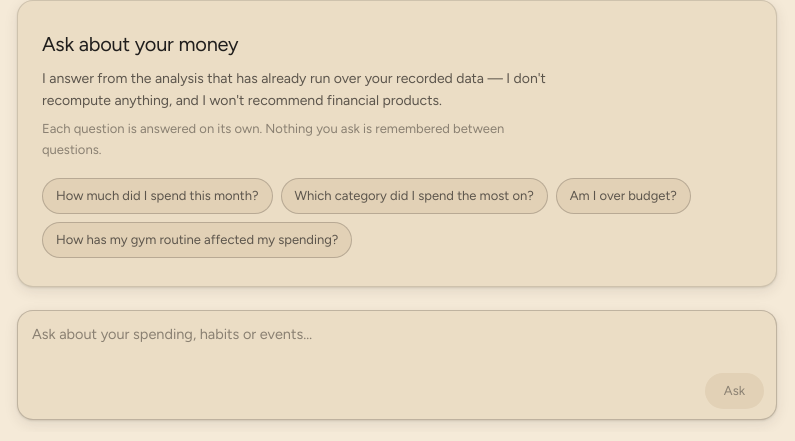
Scenario: asking a question › renders markdown without injecting HTML
The width and height of the screenshot is (795, 441).
Type "How much did I spend?" into the text box named "ask a question".
click(397, 343); type("How much did I spend?")  # box [30,321,764,365]
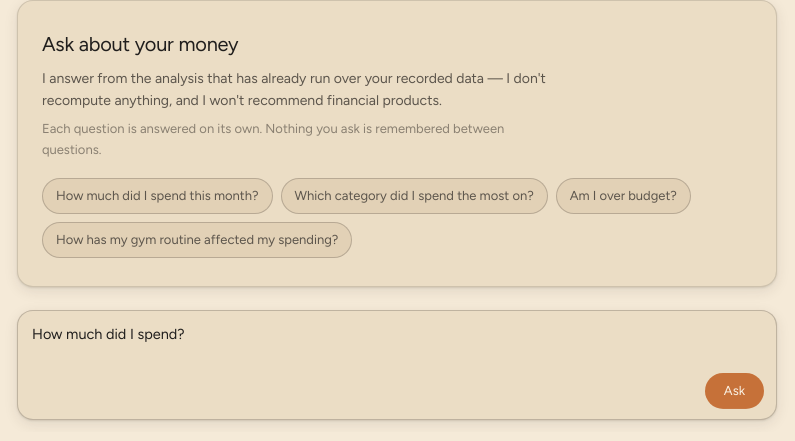
Click the button "Ask".
click(734, 391)  # box [705,373,764,409]
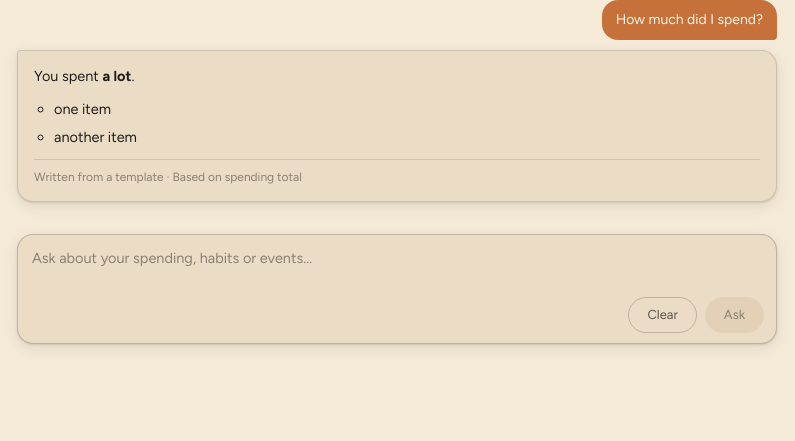
Expected: the text "a lot" is shown, [102,67,131,85]
